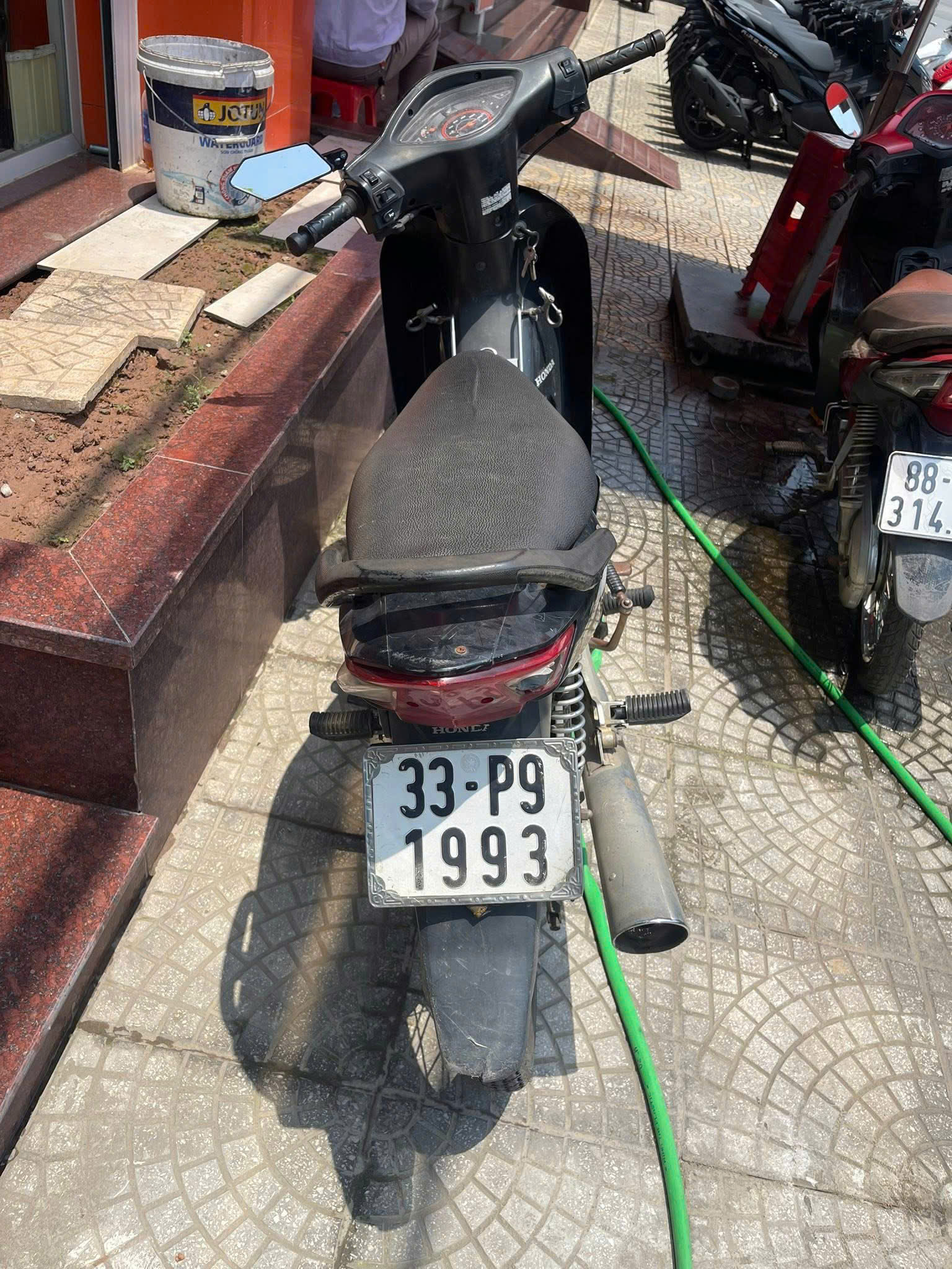Bien-so: (368, 740, 586, 912), (877, 447, 951, 541)
